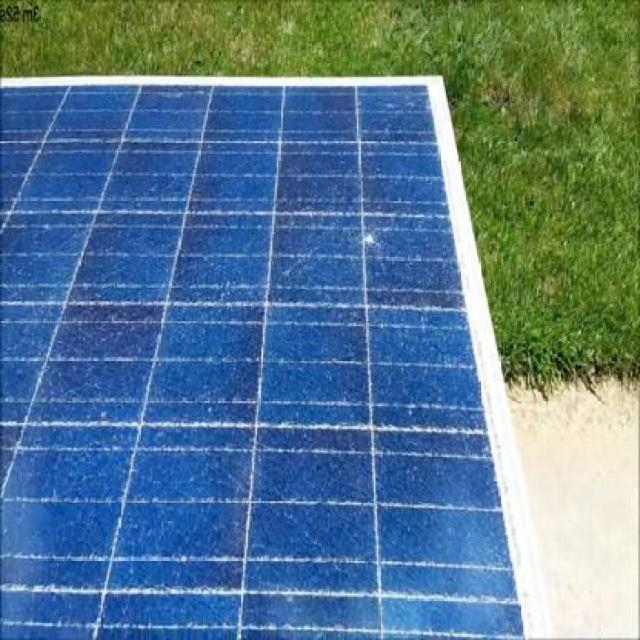cracked: (4, 84, 520, 640)
